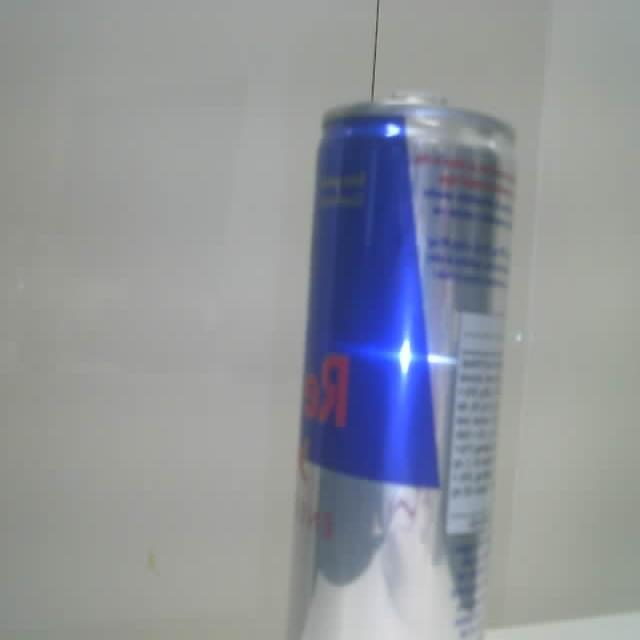redbull can: (288, 95, 514, 639)
